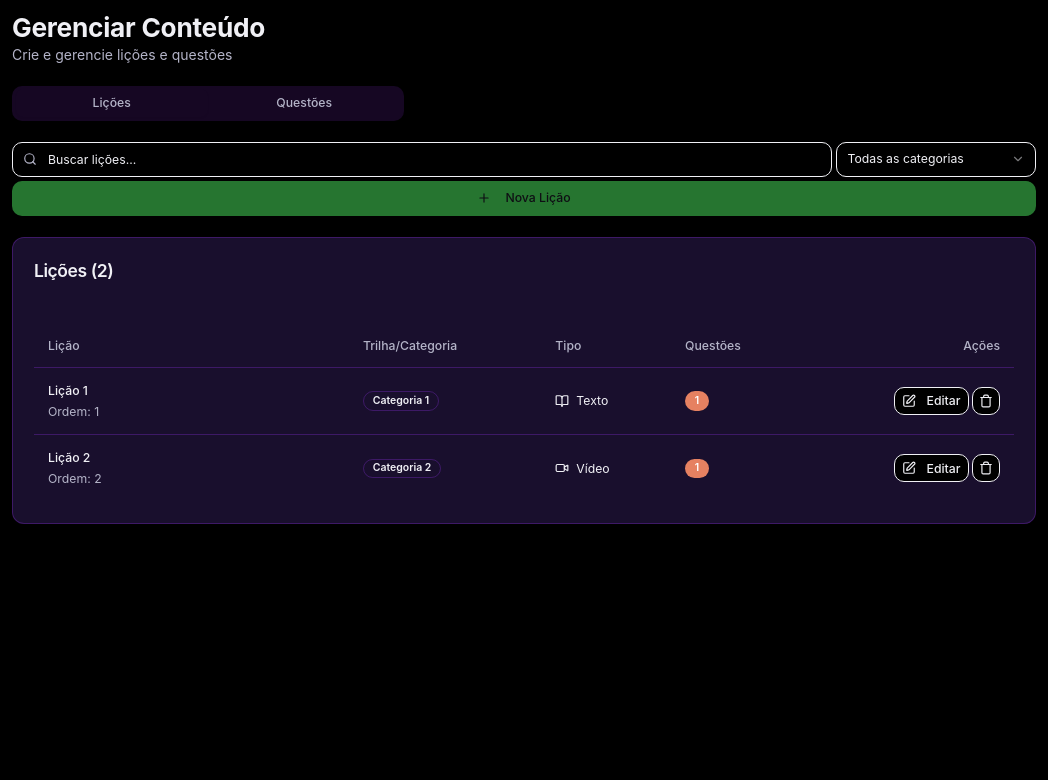
it: AdminContent Component › renders and loads categories, lessons and questions
Expected: the text "Lição 1" is shown, [48,382,88,398]
Expected: the text "Lição 2" is shown, [48,450,90,465]
Click the tab "Questões" at (304, 103), box [208,89,400,117]
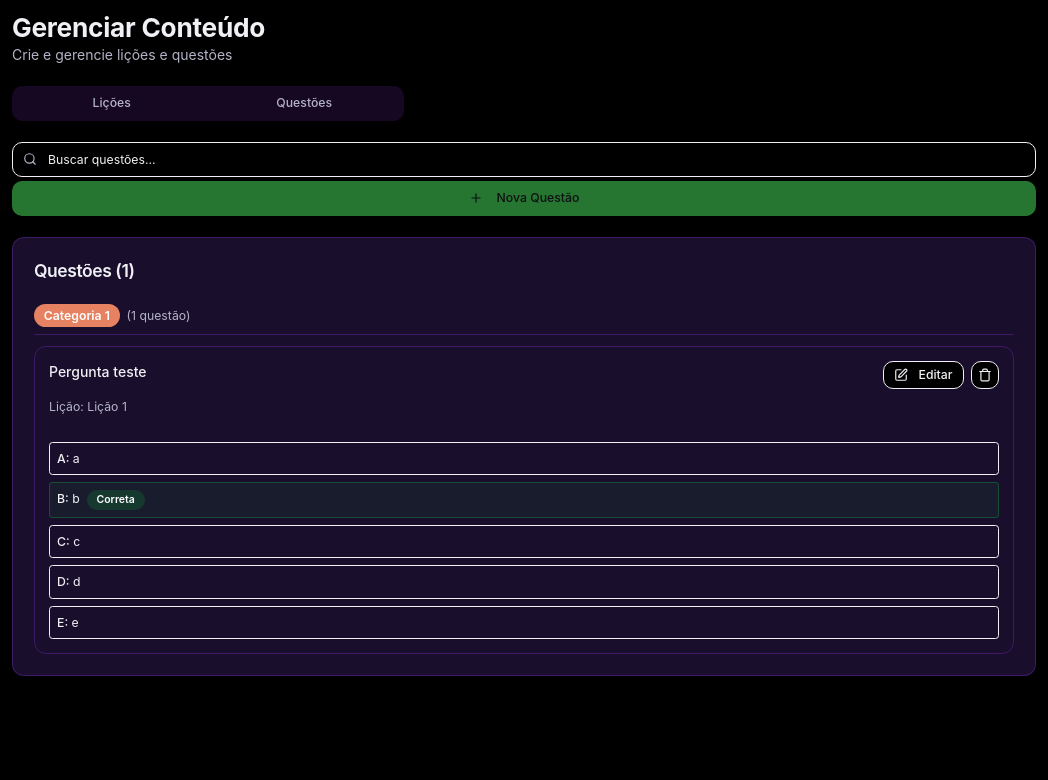
Expected: the text "Pergunta teste" is shown, [49,362,146,380]
